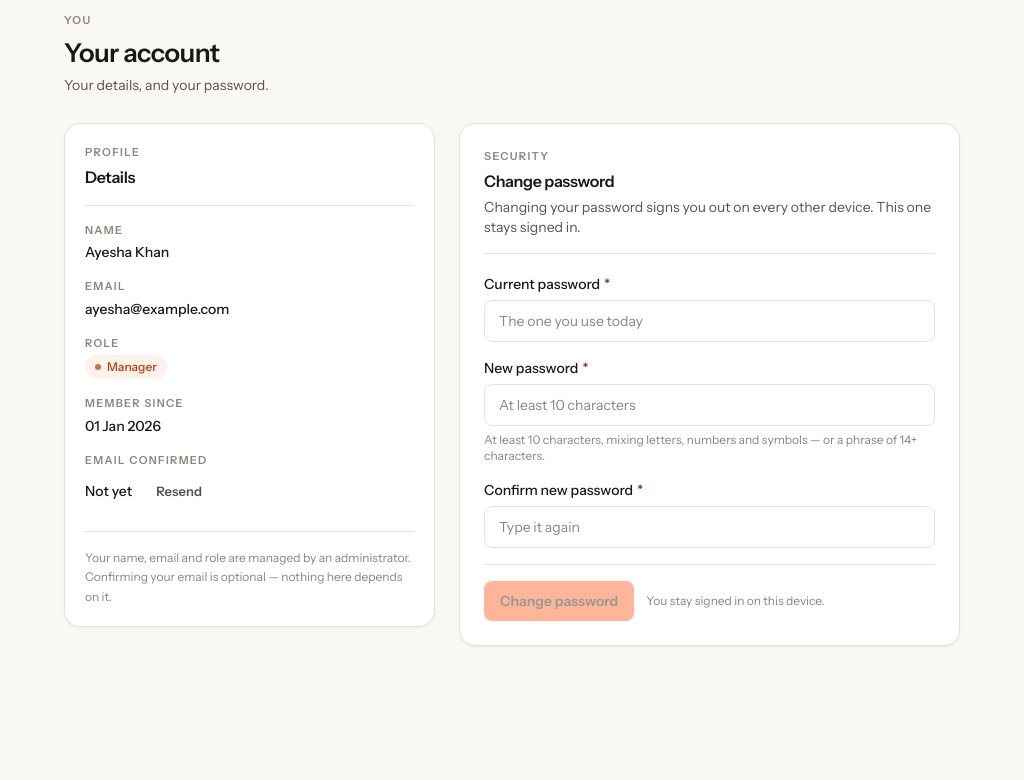
Test case: Account › shows the reason a change was rejected
The width and height of the screenshot is (1024, 780).
Type "wrong" into the password field labelled "Current password*" at (710, 320), box [484,300,935,342]
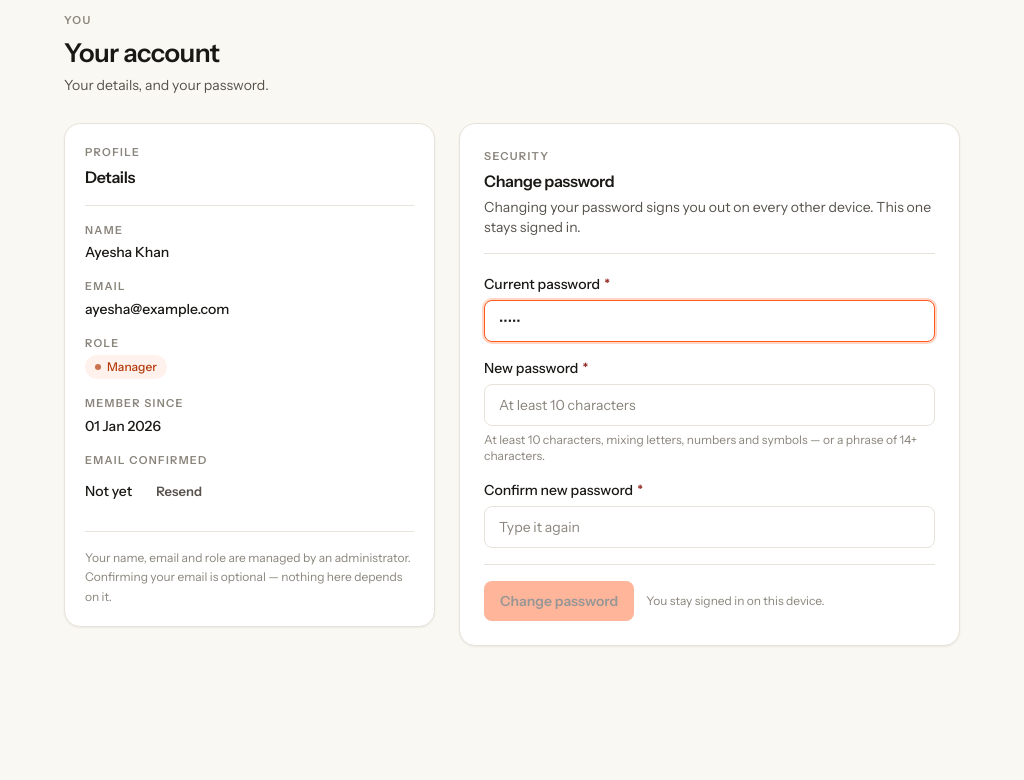
Type "Lahore-Inventory-91" into the password field labelled "New password*" at (710, 404), box [484,384,935,426]
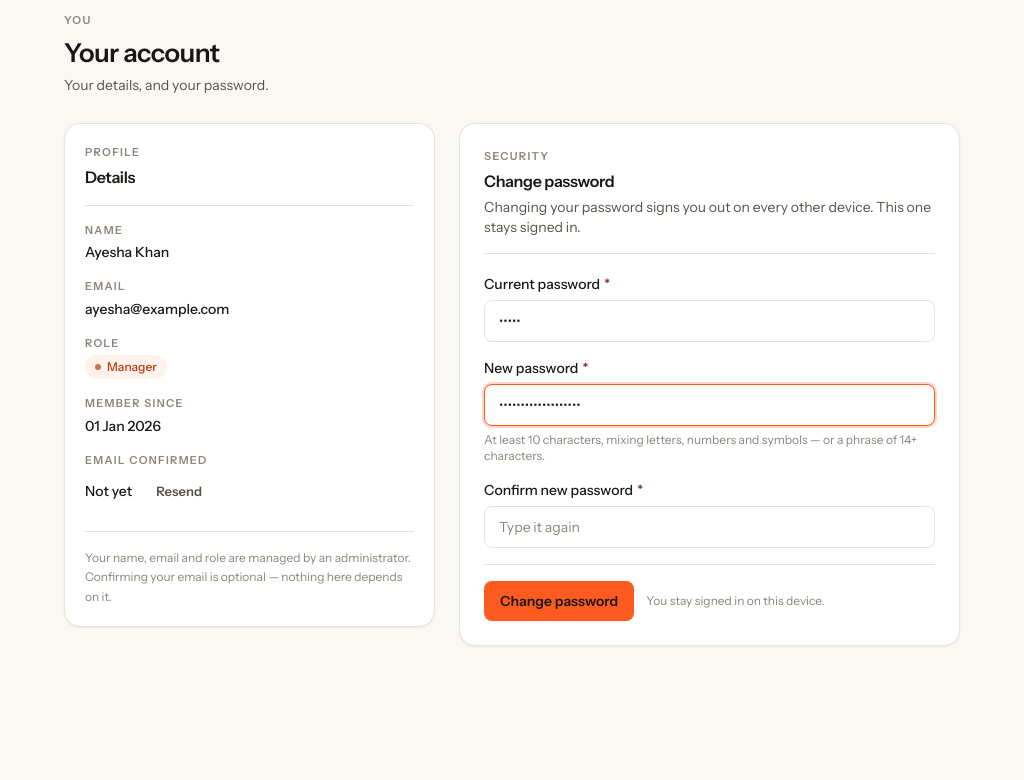
Type "Lahore-Inventory-91" into the password field labelled "Confirm new password*" at (710, 526), box [484,506,935,548]
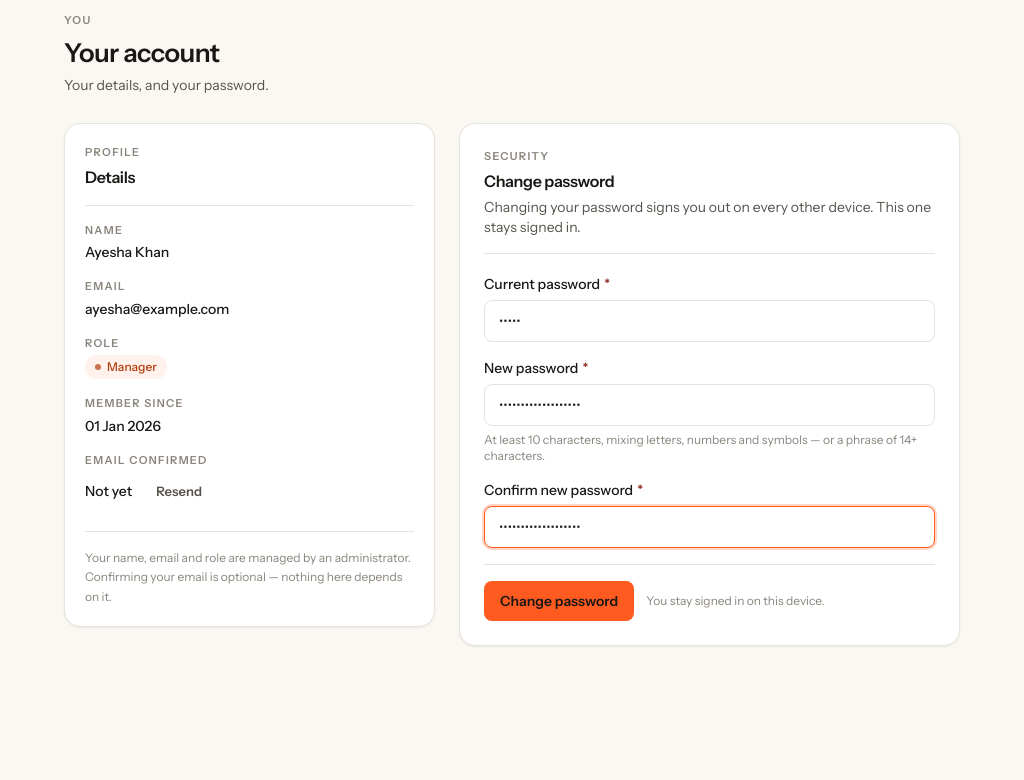
Click the button "Change password" at (559, 600), box [484,580,634,620]
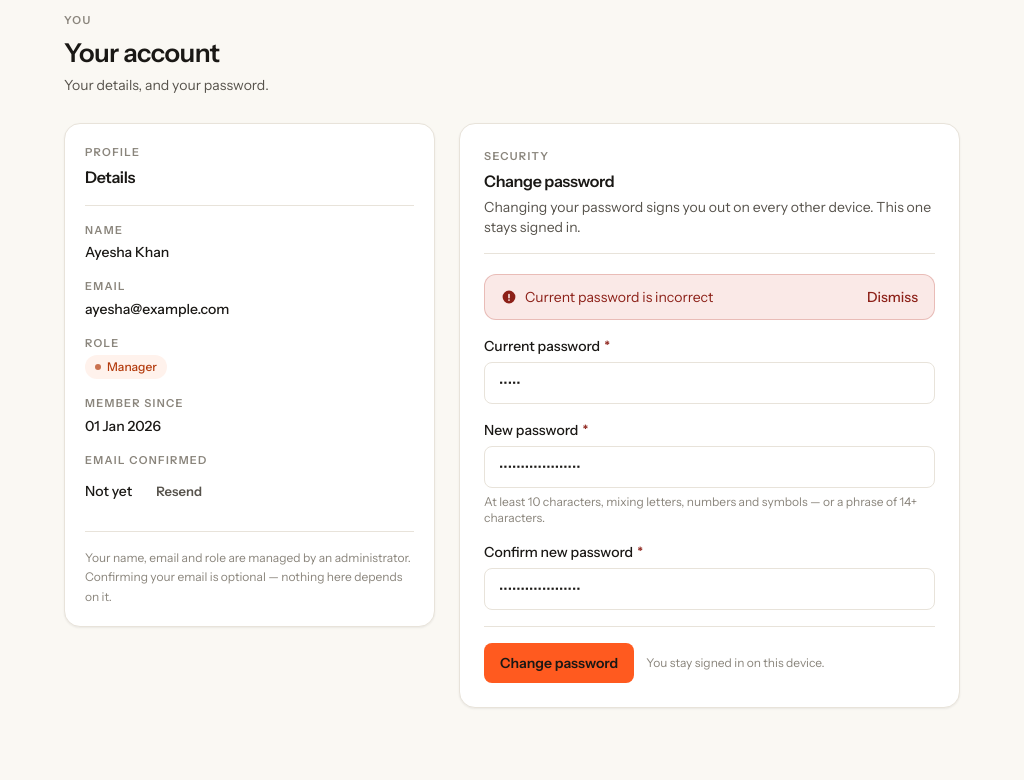
Expected: the text "Current password is incorrect" is shown, [501,286,713,306]
